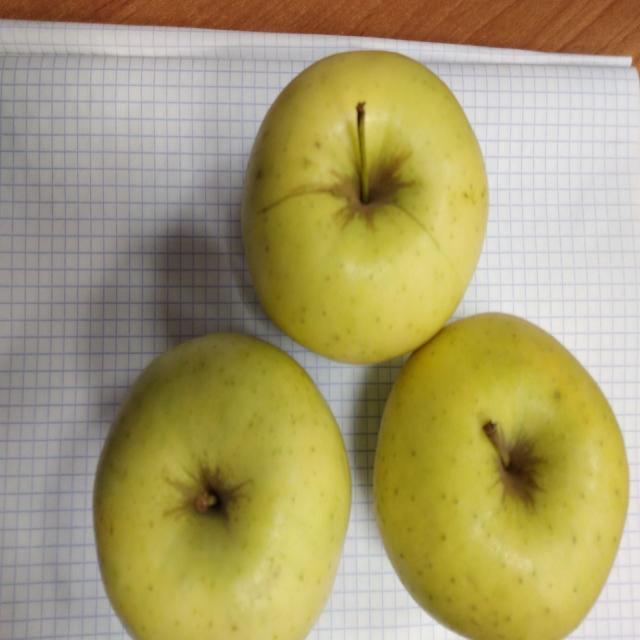Fresh Apple: (373, 301, 638, 640), (92, 346, 353, 638), (225, 53, 488, 342)
